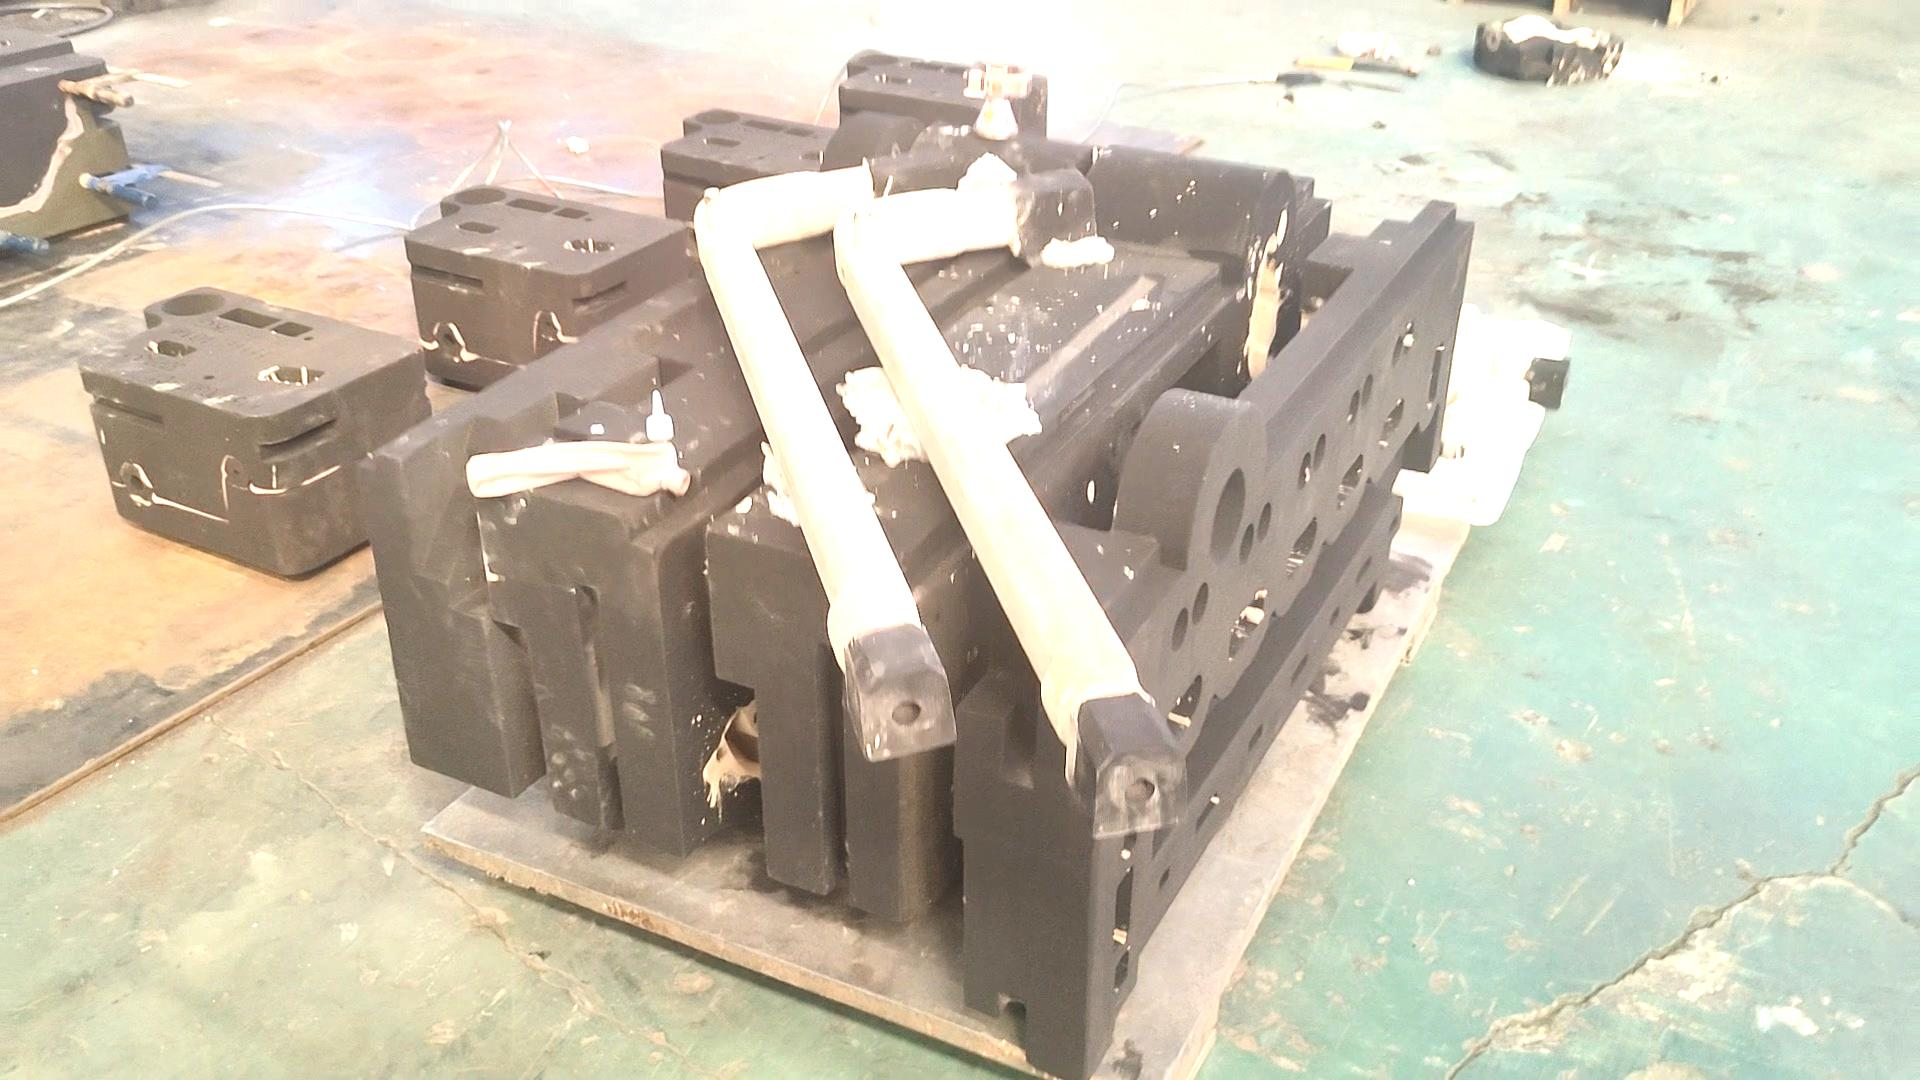pouring hole: (1211, 467, 1245, 560), (161, 291, 225, 316), (452, 187, 505, 204), (694, 109, 740, 125), (855, 53, 899, 69)
